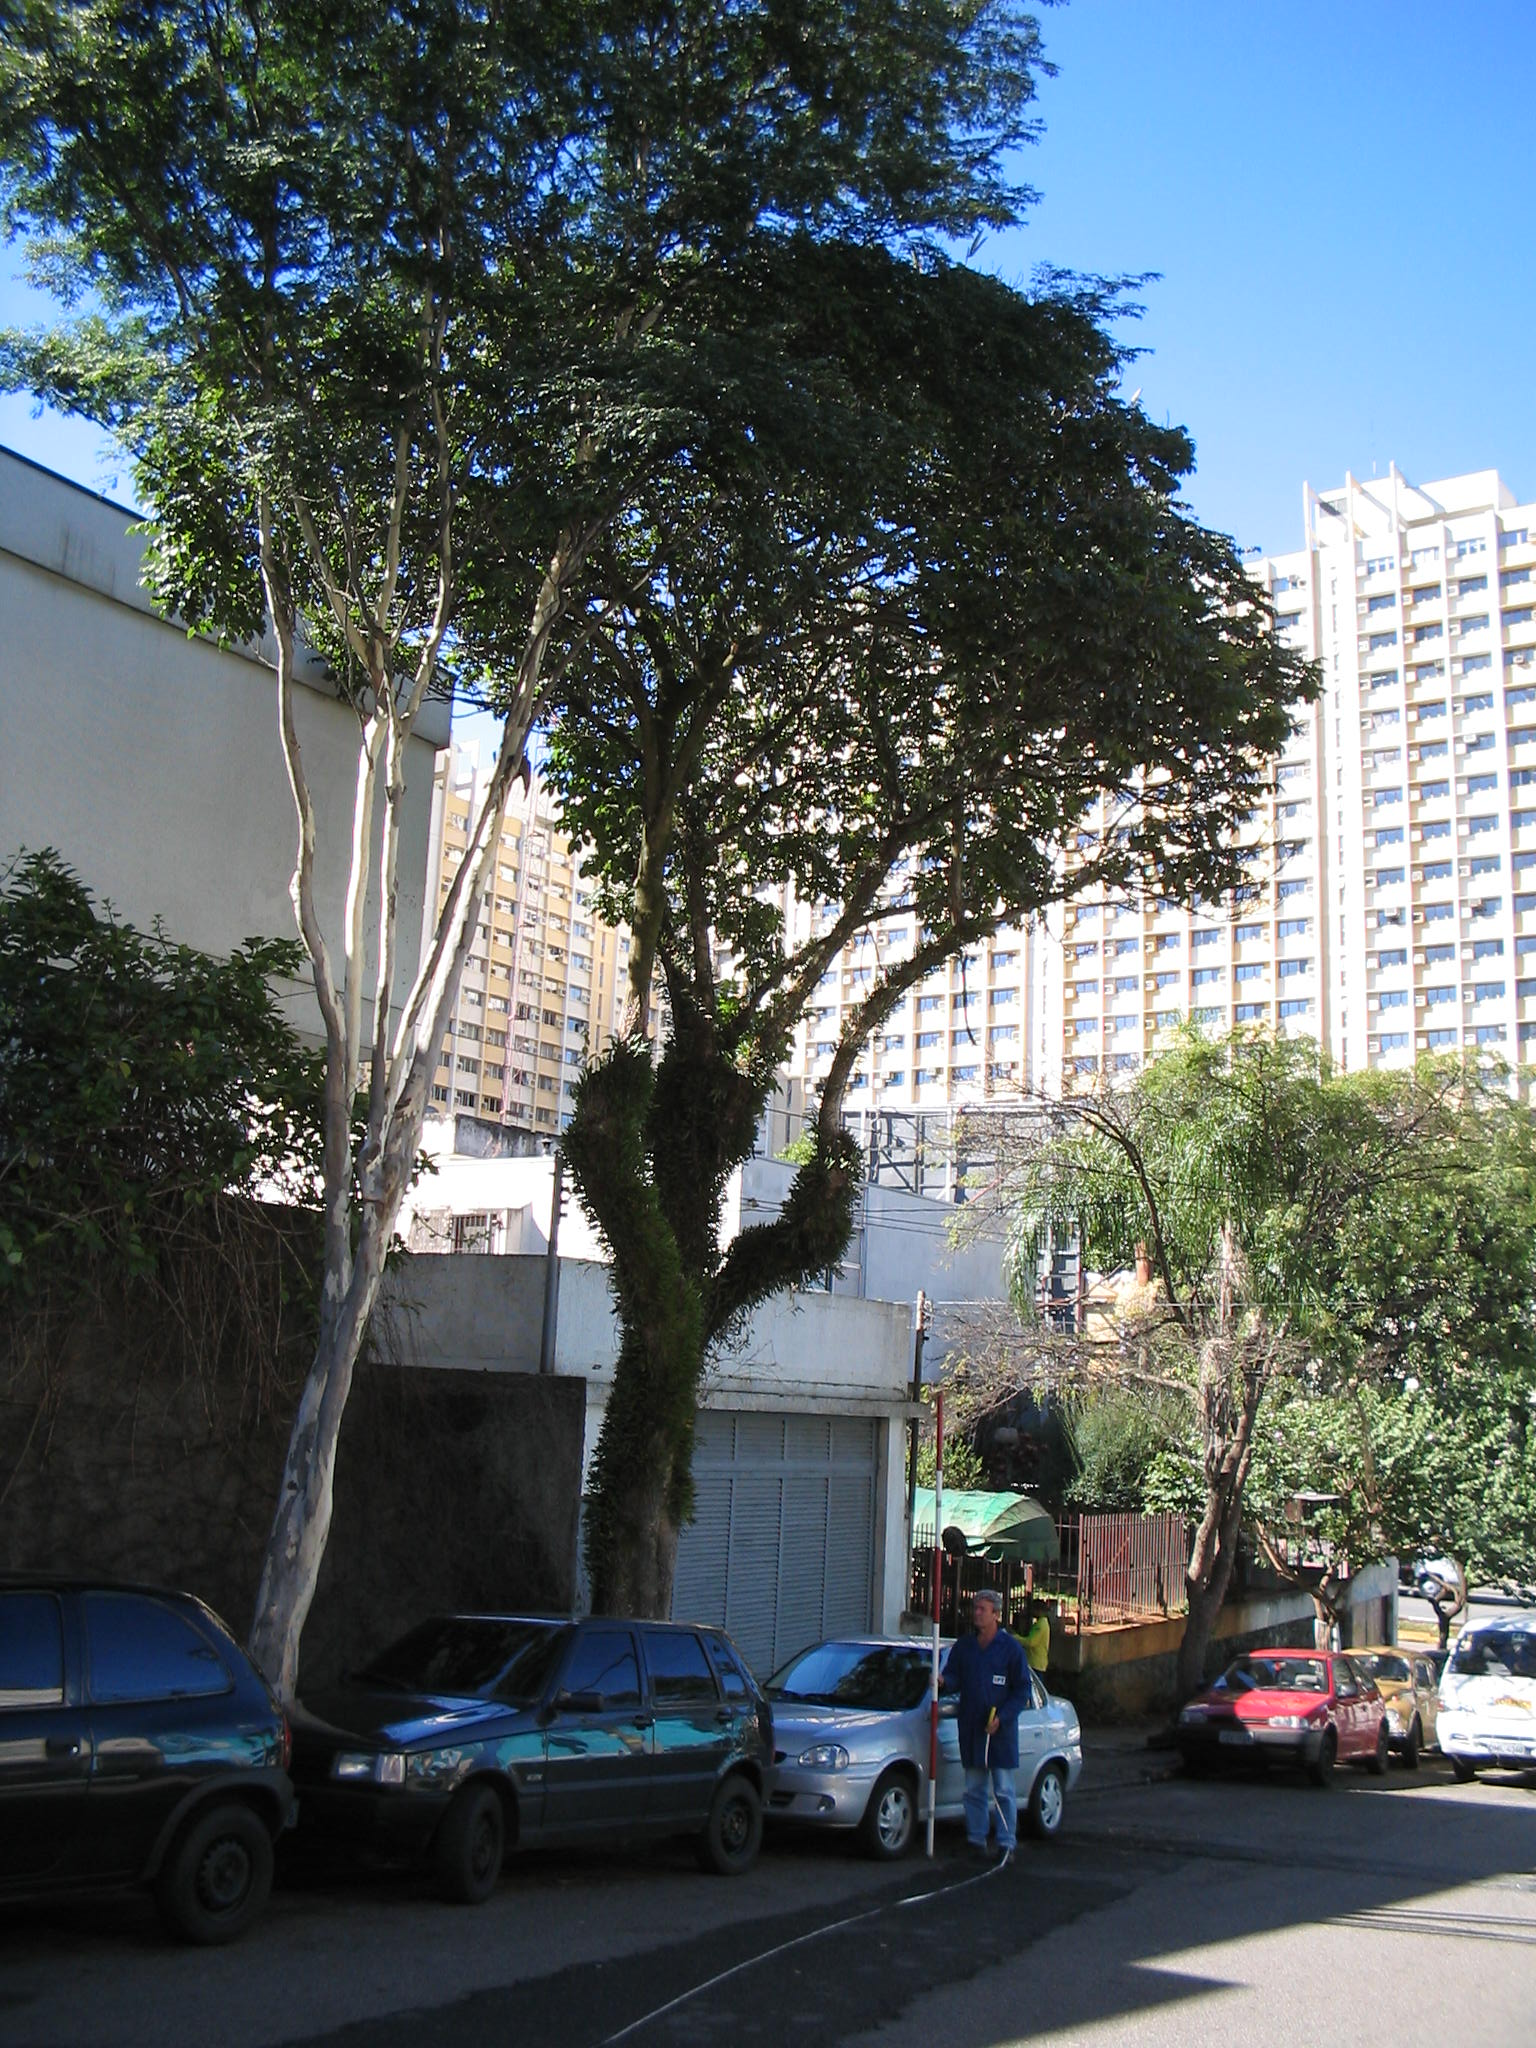crown: (56, 255, 1326, 1076), (16, 18, 1033, 689)
stem: (219, 1243, 416, 1875), (549, 1327, 728, 1869)
stick: (908, 1390, 963, 1866)
tree: (44, 244, 1341, 1875), (8, 10, 1041, 1872)
